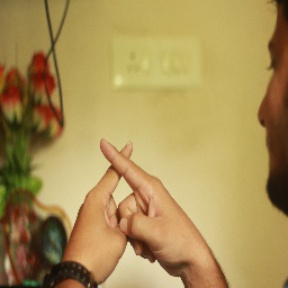X: (68, 123, 180, 219)
